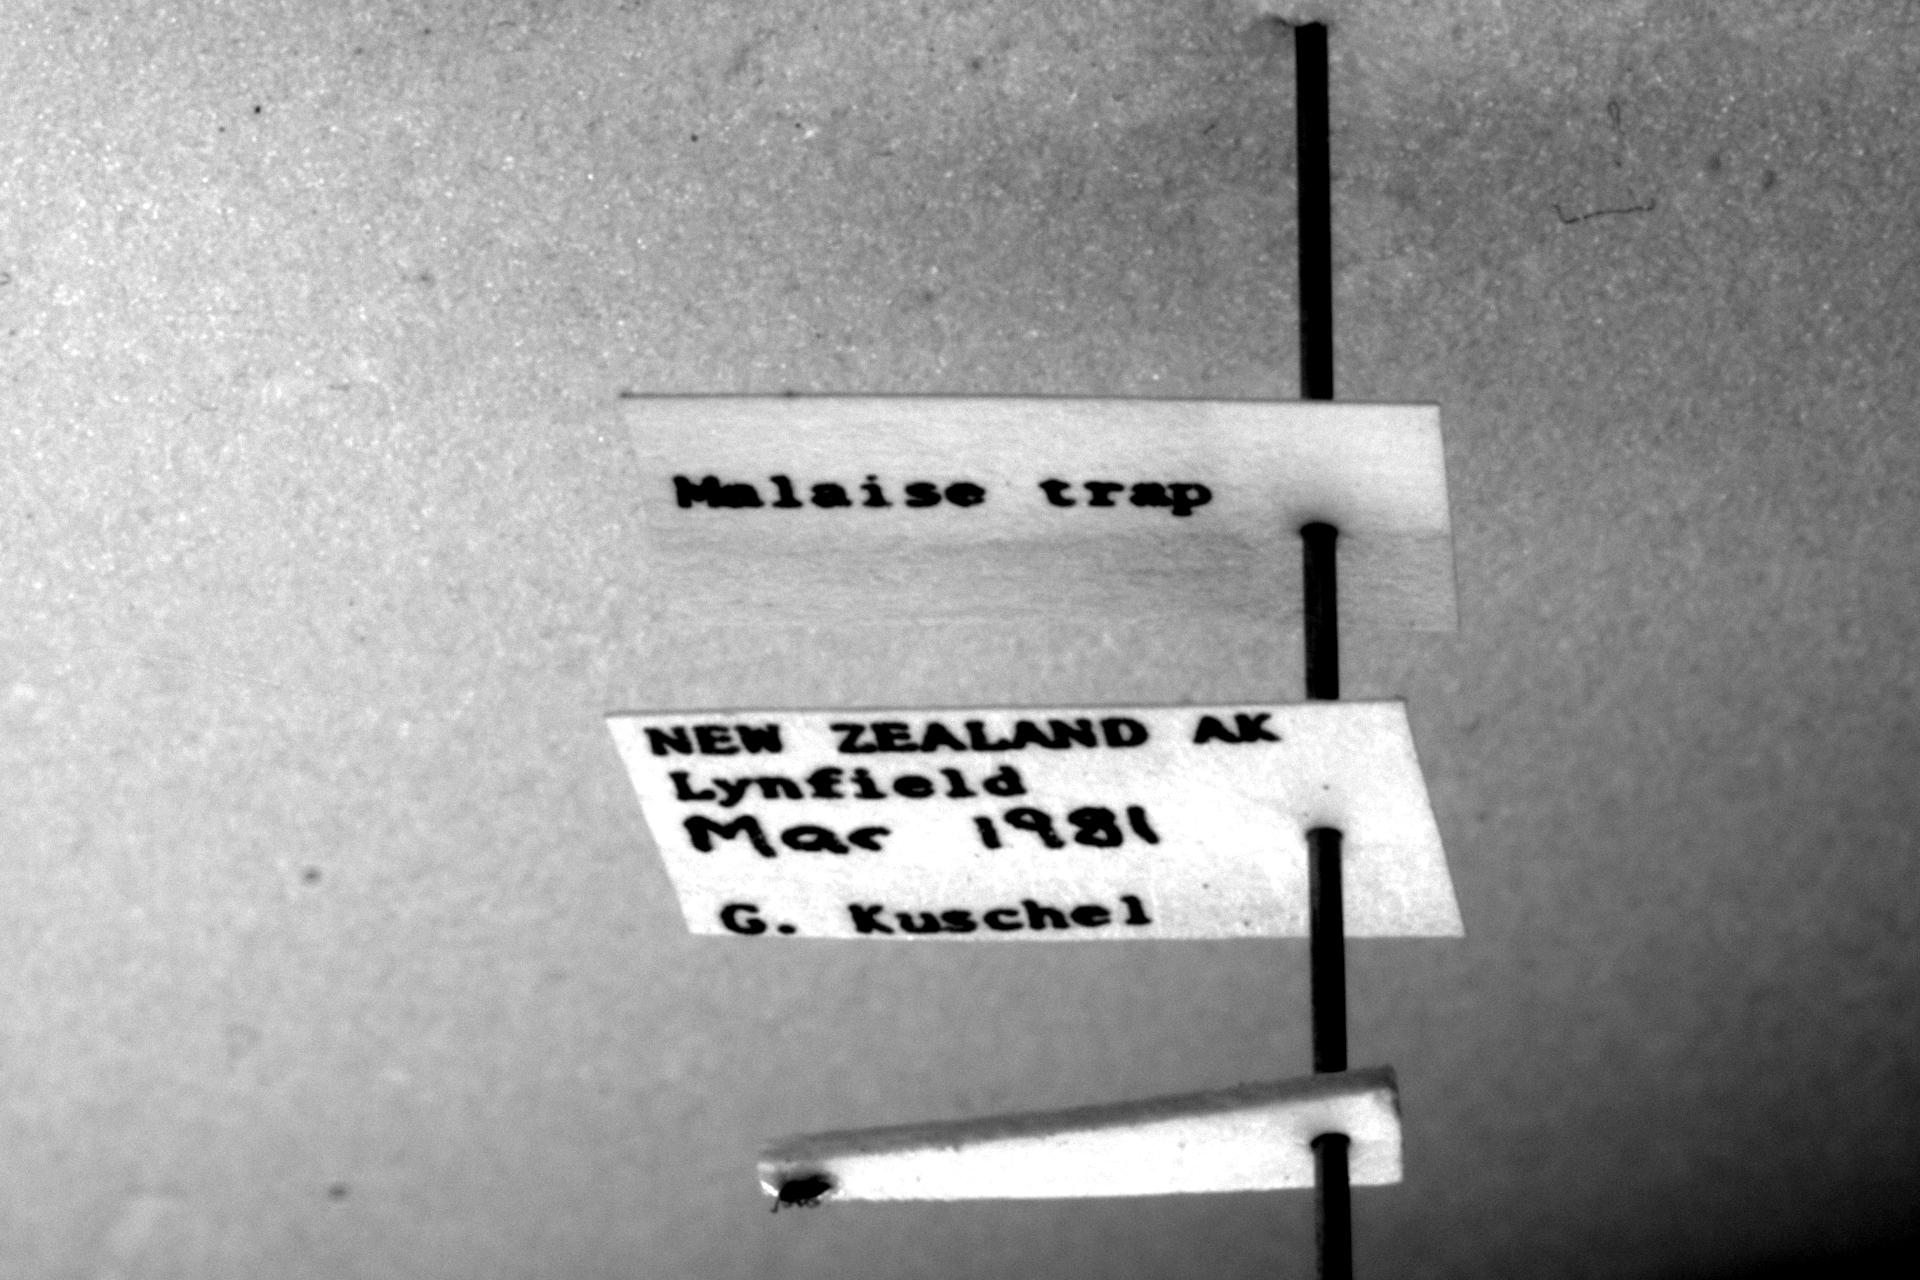mixed_label: (607, 701, 1463, 937)
typed_label: (626, 397, 1454, 630)
